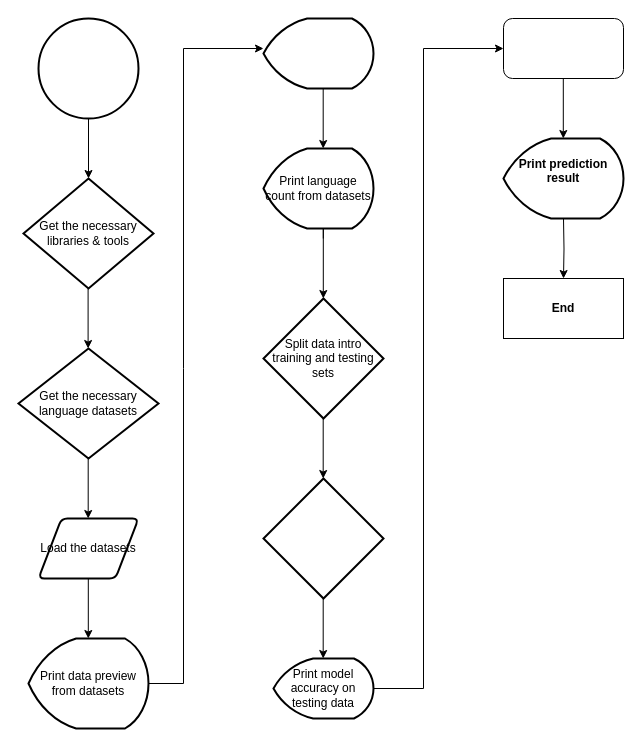
Some shapes in this 641 by 746 pixel diagram are drawn without their labels. The shapes that lost their labels are listed below. From the top down, each one's centre as x and y in pixels, then its label:
At (88,68): "START".
At (318,53): "Print null values from datasets".
At (563,48): "Predict language from users input".
At (323,538): "Train language model on training data".
